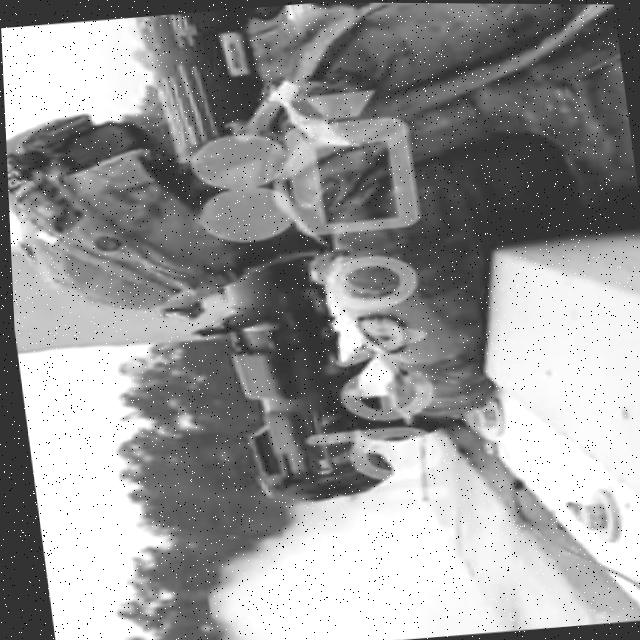rocket: (133, 1, 398, 511)
